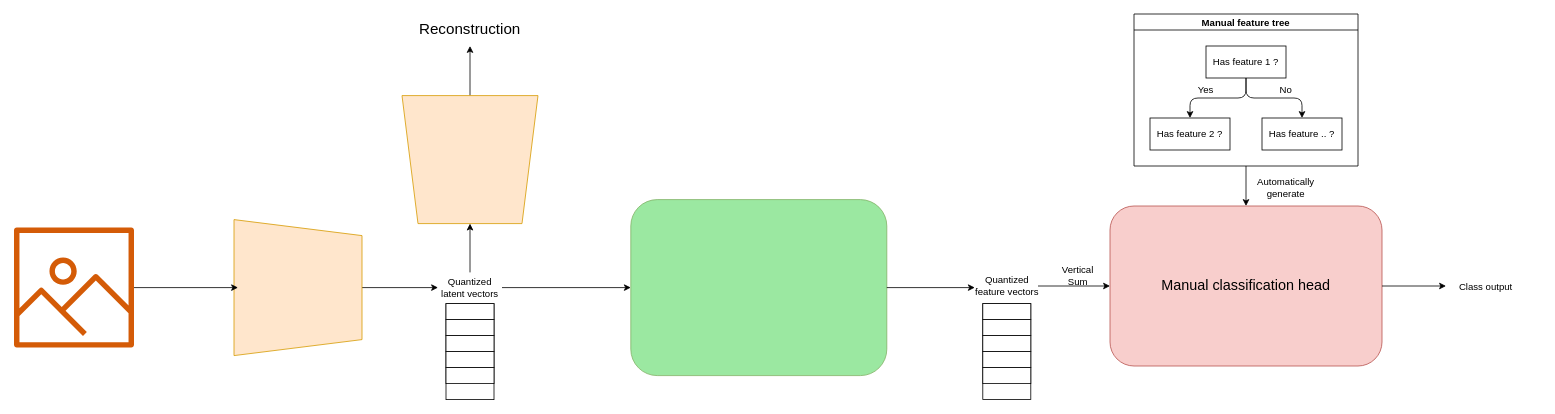
This 1555x414 diagram has some shape labels left out. Here are the shapes that lost their labels. From the top down, the centre of each, then its label:
At [469,159]: "VQVAE Decoder".
At [297,287]: "VQVAE Encoder".
At [758,287]: "Feature encoder GPT-type".
